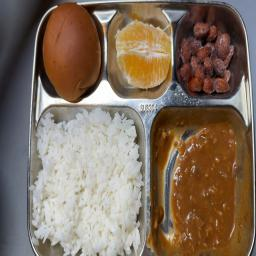100_bread: (40, 7, 105, 98)
100_nuts: (178, 22, 235, 96)
100_orange: (112, 21, 172, 90)
100_rice: (33, 104, 145, 255)
empty: (157, 120, 241, 252)
